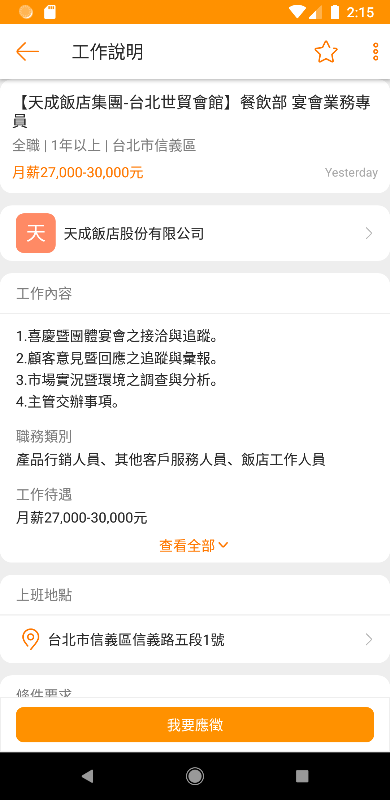button: (15, 703, 379, 745), (148, 535, 234, 557), (3, 33, 43, 69), (303, 33, 342, 69), (344, 219, 379, 253), (364, 33, 388, 71), (356, 624, 378, 653)
